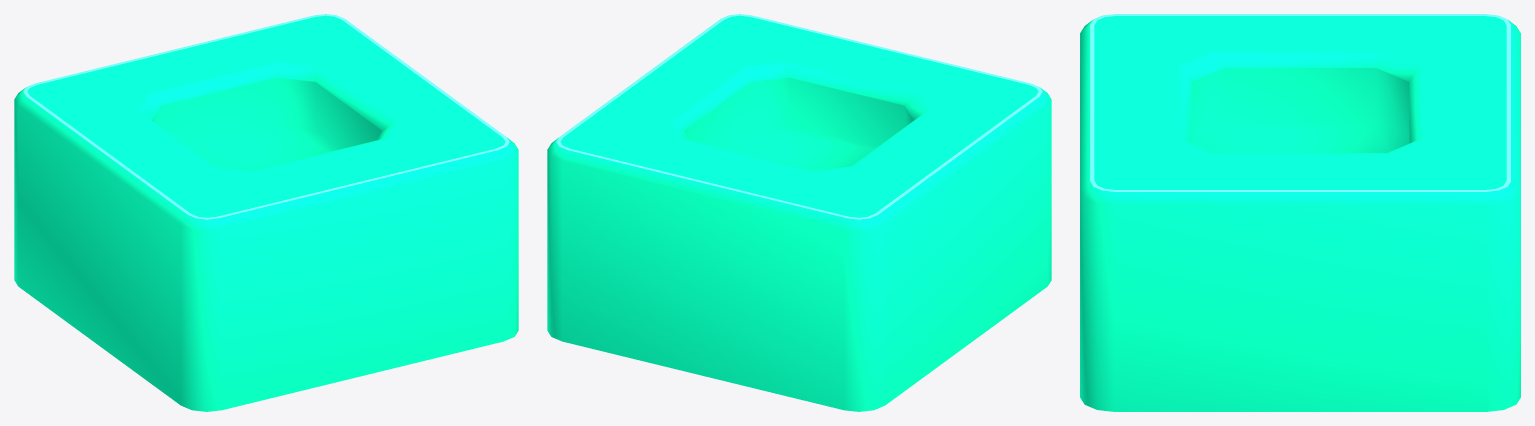
Rendered from cell_green.glb.
The picture shows the model from 3 angles, left to right: view 1: azimuth 30°, elevation 25°; view 2: azimuth 150°, elevation 25°; view 3: azimuth 270°, elevation 25°; orthographic projection. The views are drawn at different scales.
Parts seen in each view (by area): view 1: cell_green; view 2: cell_green; view 3: cell_green.
Part boxes in pixels (x1,y1,x2,y2): cell_green: (14, 14, 518, 411); cell_green: (547, 14, 1051, 411); cell_green: (1080, 14, 1520, 411).
Bounding box in the file's own units: 1 × 0.54 × 1.
Materials: 1 (1 with a texture image).
